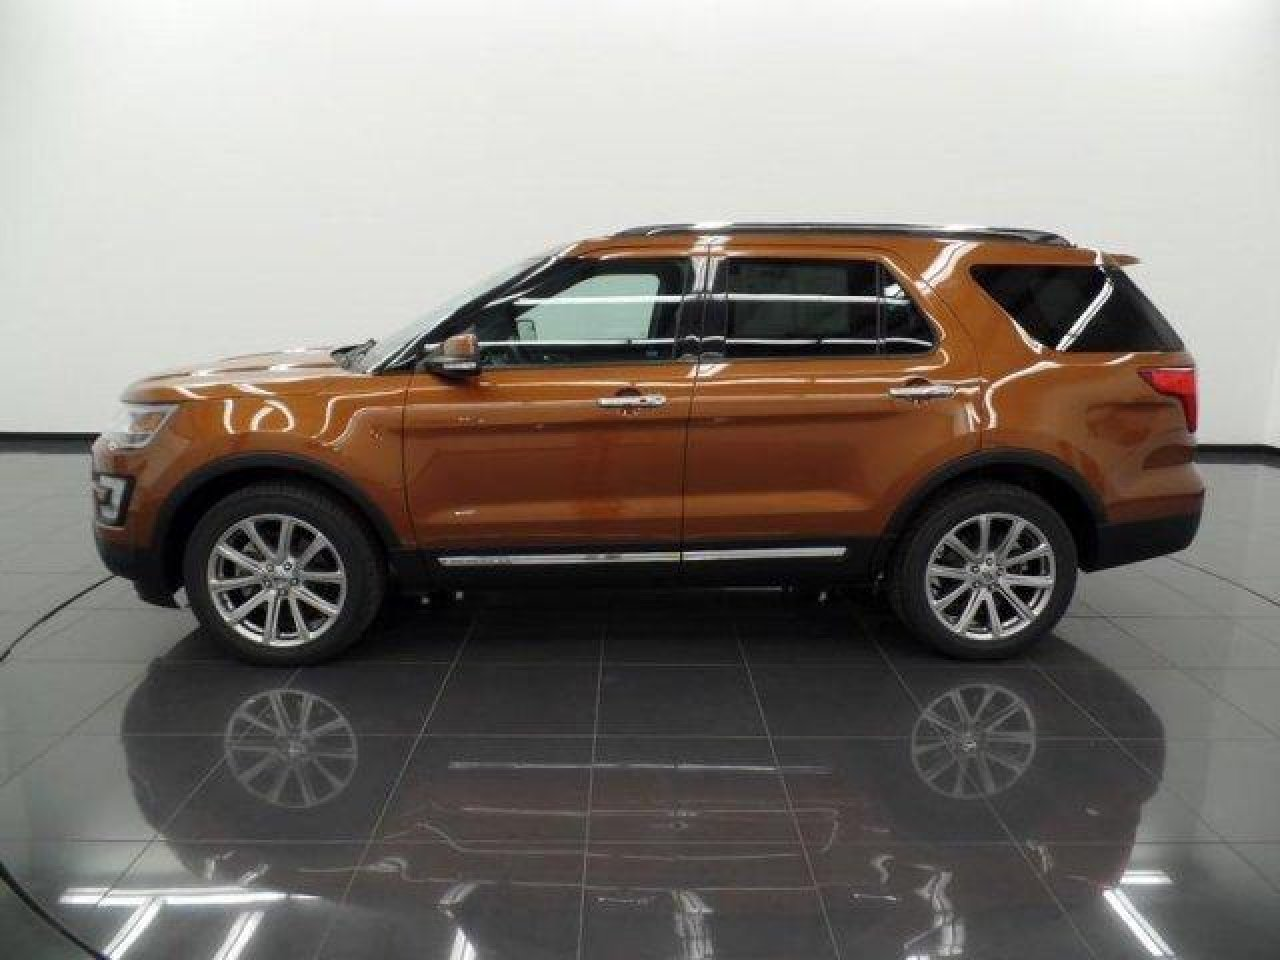Ford Explorer: (82, 216, 1213, 666)
